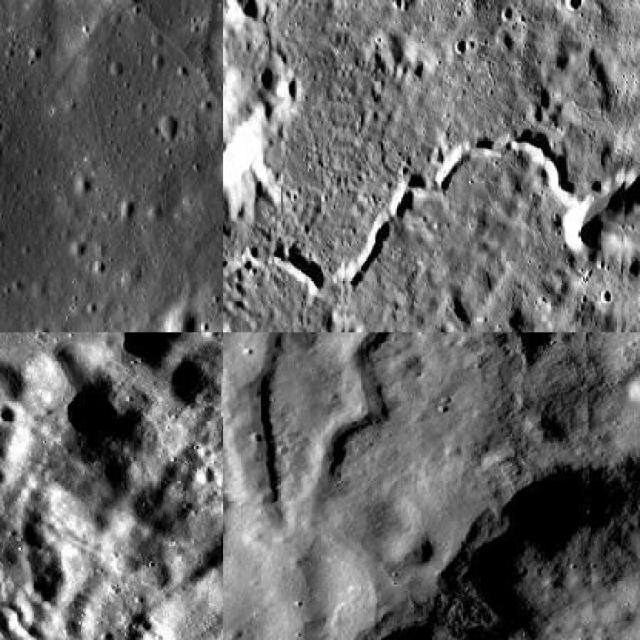rille: (223, 131, 639, 314), (282, 332, 460, 545), (0, 0, 222, 129), (223, 332, 311, 638)
